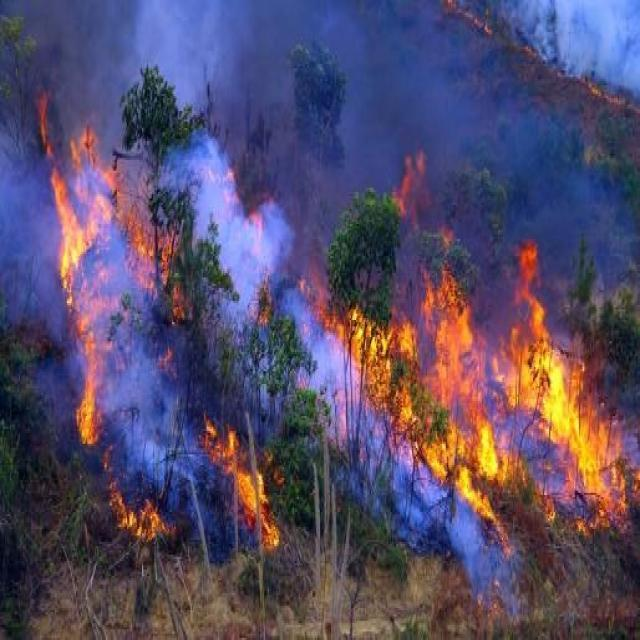Fire: (311, 145, 640, 559), (36, 90, 284, 550)
Smoke: (1, 2, 638, 619)
